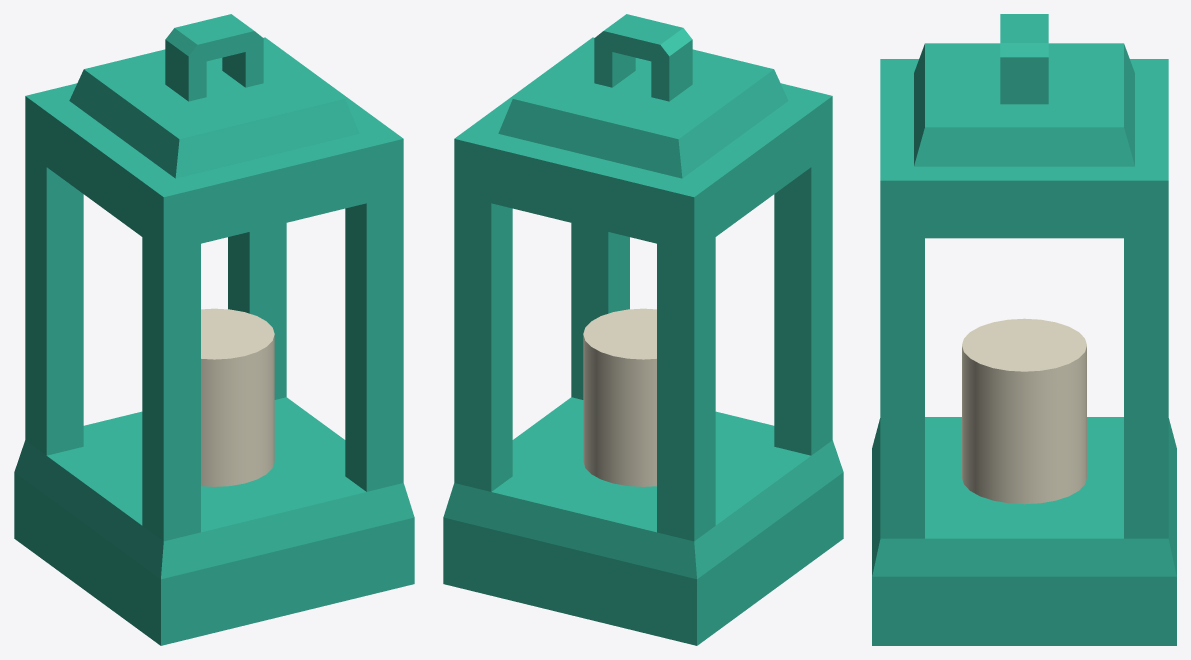
File: lanternCandle.obj
3 renders of one model, left to right at view 1: azimuth 30°, elevation 25°; view 2: azimuth 150°, elevation 25°; view 3: azimuth 270°, elevation 25°, orthographic. The views are drawn at different scales.
Parts seen in each view (by area): view 1: lanternCandle; view 2: lanternCandle; view 3: lanternCandle.
Part boxes in pixels (x1,y1,x2,y2): lanternCandle: (14, 14, 414, 645); lanternCandle: (443, 14, 843, 645); lanternCandle: (872, 14, 1176, 645).
Bounding box in the file's own units: 0.1459 × 0.2923 × 0.1459.
